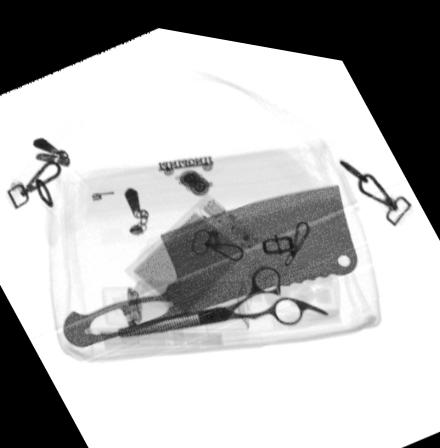Knife: (63, 169, 358, 345)
Powerbank: (120, 183, 266, 312)
Scissors: (114, 254, 329, 336)
Sprayer: (102, 272, 250, 326)
